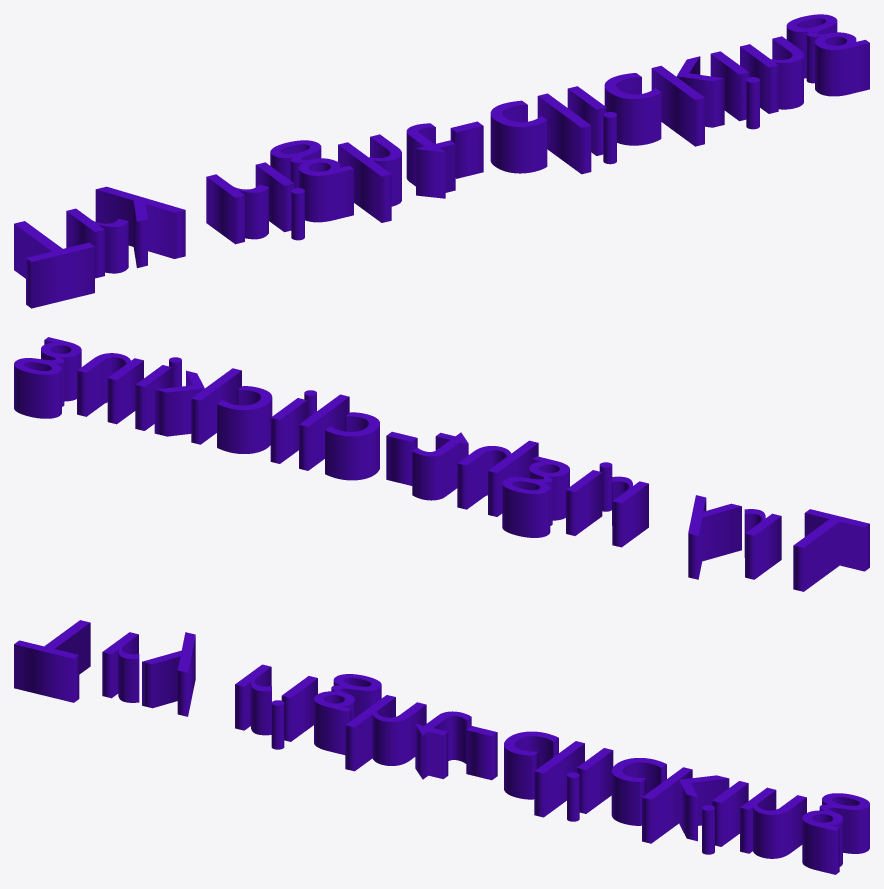
The model's file is ord.obj.
3 views of the same model, one above another, from view 1: azimuth 30°, elevation 25°; view 2: azimuth 150°, elevation 25°; view 3: azimuth 330°, elevation 25° (orthographic). The views are drawn at different scales.
Parts seen in each view (by area): view 1: texttext; view 2: texttext; view 3: texttext.
Boxes of the visible parts, box(x1,y1,x2,y2) form: texttext: box(14, 14, 869, 308); texttext: box(14, 337, 869, 591); texttext: box(14, 620, 869, 874).
Size of the model in its own units: 154 by 8 by 18.24.
